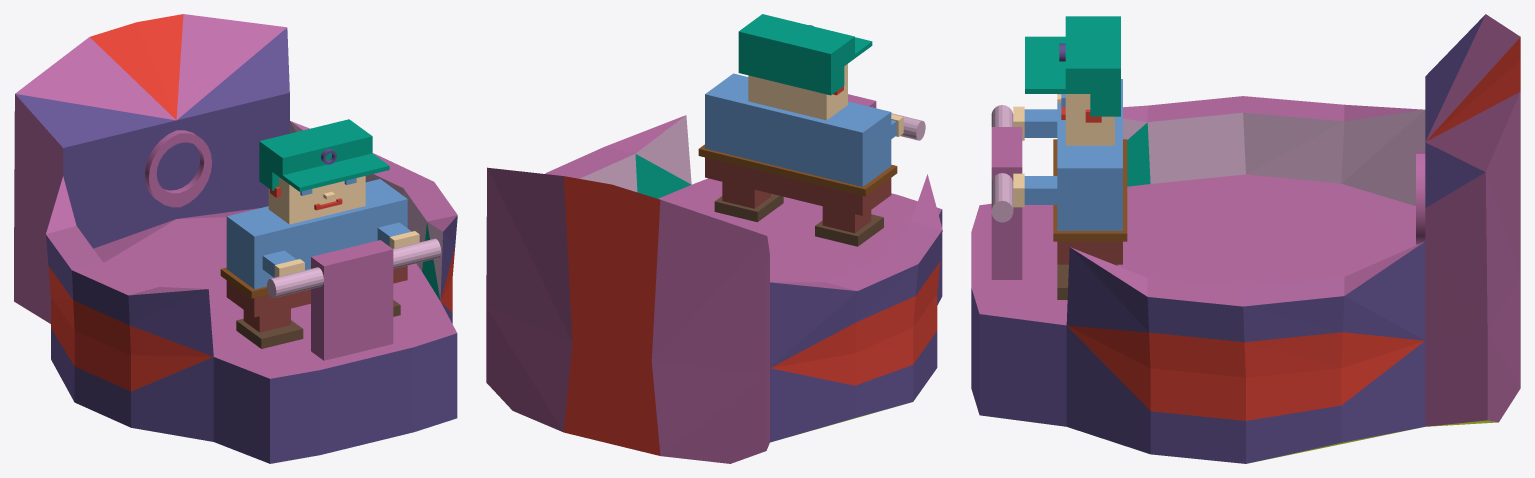
File: personaje-neutro.fbx
The picture shows the model from 3 angles, left to right: view 1: azimuth 30°, elevation 25°; view 2: azimuth 150°, elevation 25°; view 3: azimuth 270°, elevation 25°; orthographic projection. The views are drawn at different scales.
Parts seen in each view (by area): view 1: m1, m2; view 2: m1, m2; view 3: m2, m1.
Boxes of the visible parts, x1,y1,x2,y2 form: m1: [14, 22, 367, 463]; m2: [136, 14, 457, 443]; m1: [612, 25, 942, 463]; m2: [486, 14, 818, 444]; m2: [971, 42, 1520, 463]; m1: [971, 14, 1520, 259].
Size of the model in its own units: 1.6 by 1.13 by 1.77.
